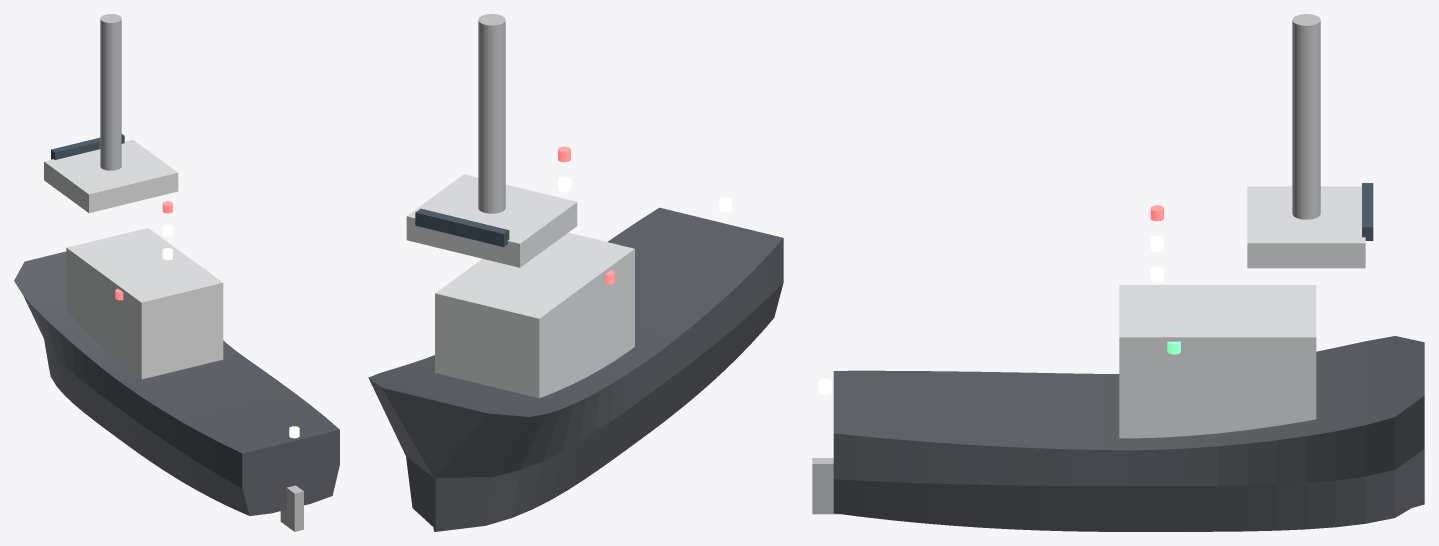
The model's file is fishing_boat.glb.
3 views of the same model, side by side, from view 1: azimuth 30°, elevation 25°; view 2: azimuth 150°, elevation 25°; view 3: azimuth 270°, elevation 25° (orthographic). The views are drawn at different scales.
Parts seen in each view (by area): view 1: ship_hull, superstructure_base, bridge_wing, mast_main, rudder_main_rudder, bridge_windows; view 2: ship_hull, superstructure_base, bridge_wing, mast_main, bridge_windows; view 3: ship_hull, superstructure_base, bridge_wing, mast_main, rudder_main_rudder.
Part boxes in pixels (bbox=[...]): ship_hull: bbox=[14, 251, 339, 515]; superstructure_base: bbox=[66, 228, 223, 379]; bridge_wing: bbox=[44, 140, 178, 212]; mast_main: bbox=[100, 14, 121, 170]; rudder_main_rudder: bbox=[280, 485, 303, 531]; bridge_windows: bbox=[51, 134, 124, 159]; ship_hull: bbox=[368, 207, 783, 531]; superstructure_base: bbox=[435, 232, 634, 398]; bridge_wing: bbox=[406, 174, 577, 267]; mast_main: bbox=[478, 14, 505, 213]; bridge_windows: bbox=[415, 208, 509, 246]; ship_hull: bbox=[833, 336, 1424, 531]; superstructure_base: bbox=[1119, 285, 1316, 438]; bridge_wing: bbox=[1247, 186, 1365, 268]; mast_main: bbox=[1292, 14, 1320, 219]; rudder_main_rudder: bbox=[812, 458, 840, 514].
Size of what is drawn, in the model's own units: 3.53 by 9.63 by 10.88.
